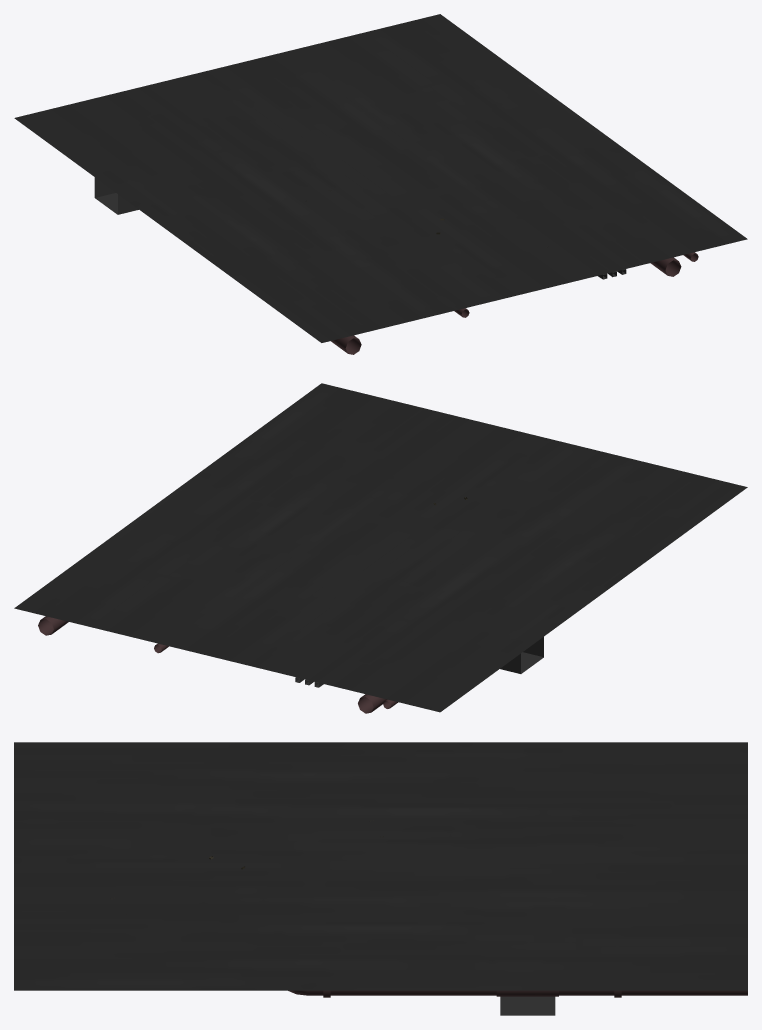
File: SW_ENV_RailTunnelCeiling_Single_05m_ALT_FF.fbx
The picture shows the model from 3 angles, top to bottom: view 1: azimuth 30°, elevation 25°; view 2: azimuth 150°, elevation 25°; view 3: azimuth 270°, elevation 25°; orthographic projection. The views are drawn at different scales.
Visible parts, largest first — view 1: SW_ENV_RailTunnelCeiling_Single_05m_ALT_FF; view 2: SW_ENV_RailTunnelCeiling_Single_05m_ALT_FF; view 3: SW_ENV_RailTunnelCeiling_Single_05m_ALT_FF.
Part boxes in pixels (left/top/right/bottom): SW_ENV_RailTunnelCeiling_Single_05m_ALT_FF: left=14, top=14, right=747, bottom=354; SW_ENV_RailTunnelCeiling_Single_05m_ALT_FF: left=14, top=383, right=747, bottom=713; SW_ENV_RailTunnelCeiling_Single_05m_ALT_FF: left=14, top=742, right=747, bottom=1015.
Bounding box in the file's own units: 4 × 0.2002 × 5.
